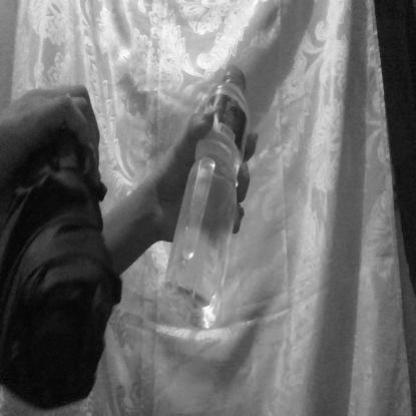Plastic Bottle: (159, 25, 255, 360)
